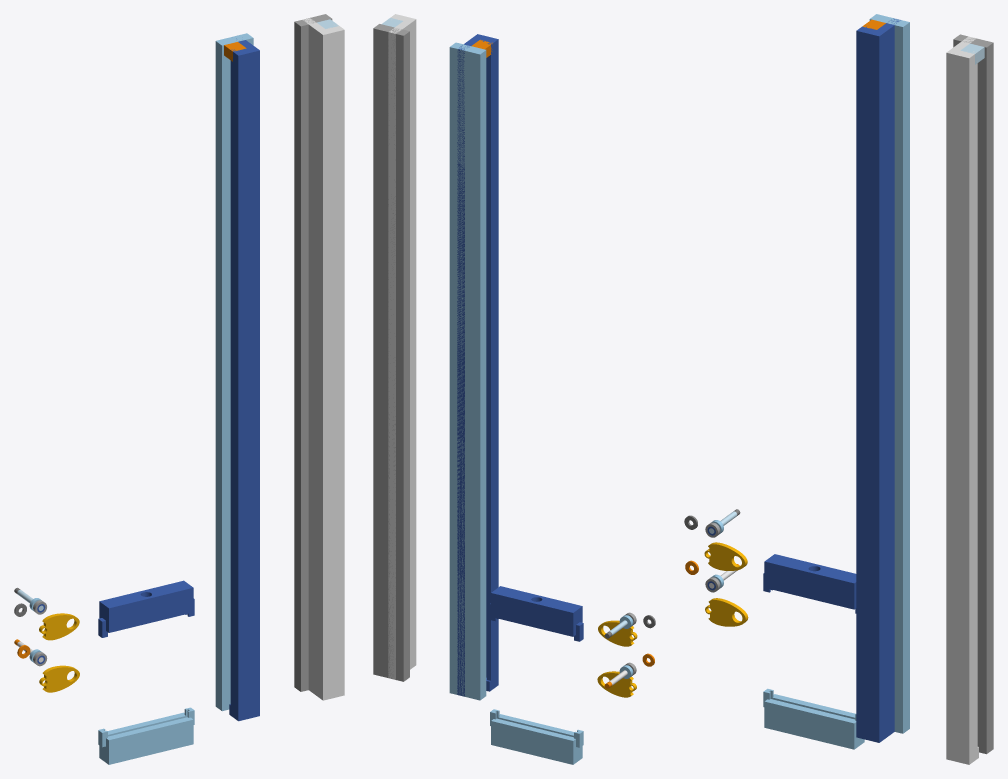
File: finalview-allparts.obj
The picture shows the model from 3 angles, left to right: view 1: azimuth 30°, elevation 25°; view 2: azimuth 150°, elevation 25°; view 3: azimuth 330°, elevation 25°; orthographic projection. The views are drawn at different scales.
Parts seen in each view (by area): view 1: mesh117, mesh22, mesh23, mesh114, mesh125, mesh51, mesh124, mesh52, mesh77, mesh151, mesh75, mesh33 (+1 smaller); view 2: mesh129, mesh55, mesh24, mesh119, mesh114, mesh23, mesh52, mesh124, mesh108, mesh76, mesh150, mesh75 (+2 smaller); view 3: mesh117, mesh22, mesh118, mesh51, mesh125, mesh19, mesh50, mesh126, mesh77, mesh151, mesh75, mesh142 (+1 smaller).
Part boxes in pixels (box(x1,y1,x2,y2)): mesh117: box(238, 50, 259, 721); mesh22: box(323, 30, 344, 700); mesh23: box(308, 25, 322, 700); mesh114: box(229, 50, 238, 720); mesh125: box(222, 38, 253, 711); mesh51: box(301, 19, 332, 691); mesh124: box(215, 41, 221, 710); mesh52: box(294, 22, 300, 691); mesh77: box(109, 588, 193, 632); mesh151: box(109, 719, 193, 764); mesh75: box(99, 580, 193, 608); mesh33: box(41, 667, 79, 692); mesh129: box(449, 47, 480, 700); mesh55: box(373, 28, 403, 681); mesh24: box(388, 32, 395, 679); mesh119: box(457, 49, 464, 696); mesh114: box(489, 39, 498, 691); mesh23: box(403, 19, 416, 669); mesh52: box(403, 31, 409, 681); mesh124: box(480, 50, 486, 699); mesh108: box(487, 55, 490, 680); mesh76: box(491, 593, 573, 636); mesh150: box(491, 721, 573, 764); mesh75: box(491, 586, 582, 612); mesh117: box(856, 31, 879, 742); mesh22: box(946, 53, 969, 764); mesh118: box(879, 25, 894, 742); mesh51: box(953, 39, 986, 753); mesh125: box(869, 19, 902, 733); mesh19: box(969, 54, 978, 764); mesh50: box(986, 43, 993, 753); mesh126: box(903, 22, 909, 733); mesh77: box(764, 561, 854, 609); mesh151: box(764, 701, 854, 749); mesh75: box(765, 554, 856, 583); mesh142: box(704, 544, 745, 570).
Size of the model in its own units: 0.1528 by 0.339 by 0.0483.
